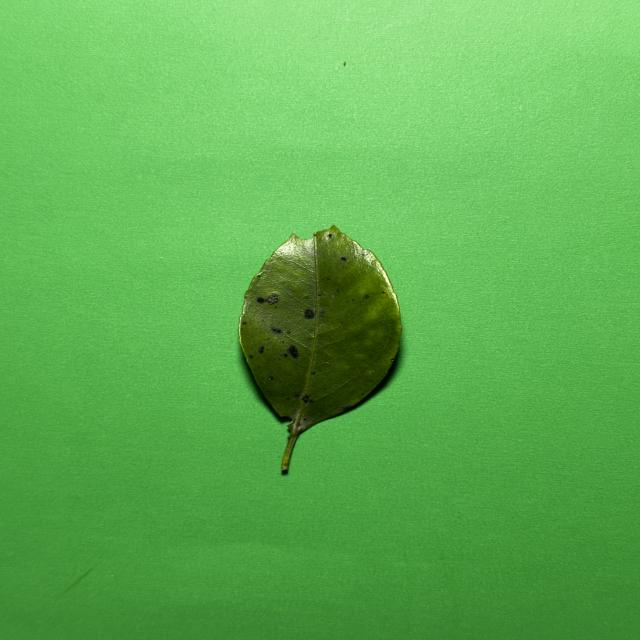sooty_mold: (239, 226, 401, 472)
